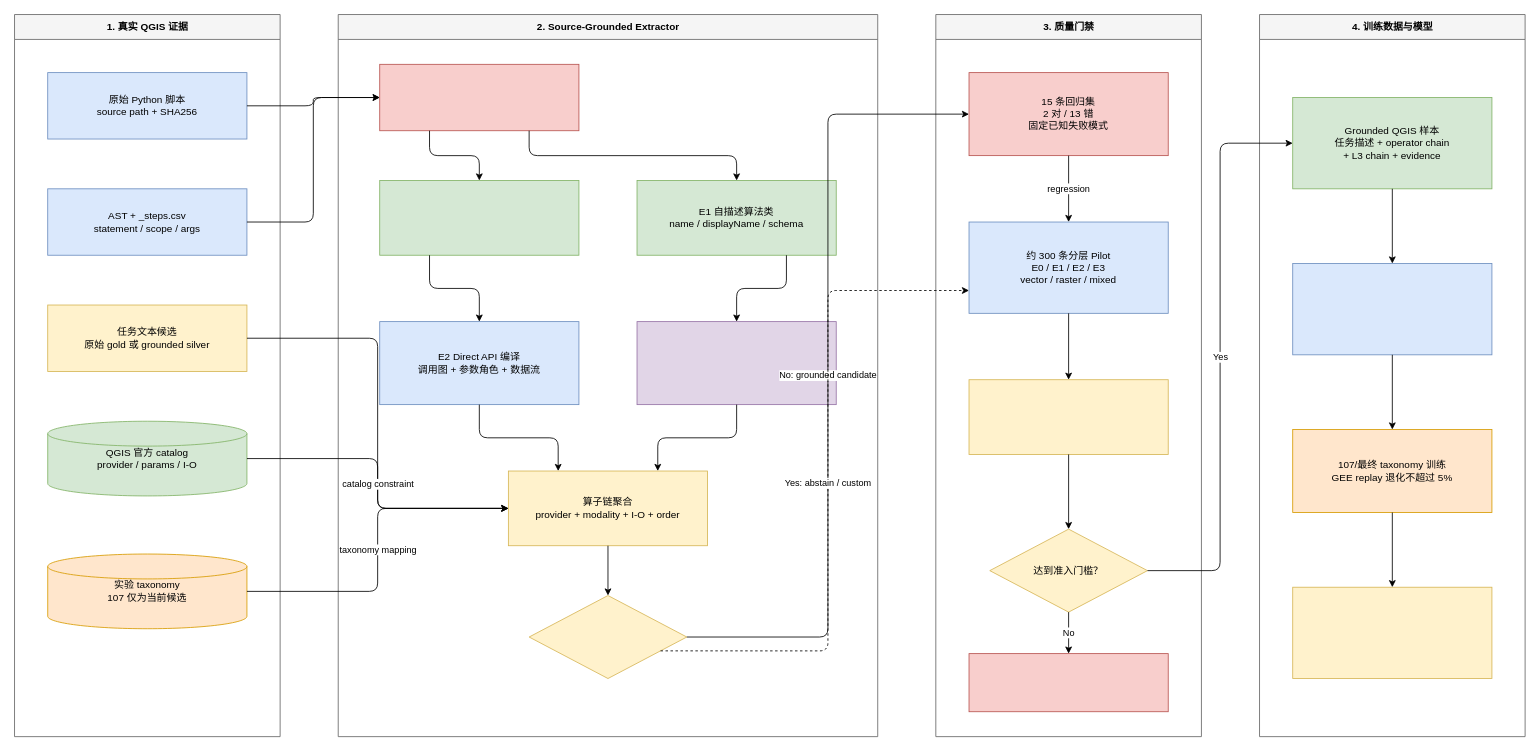
This 1540x751 diagram has some shape labels left out. Here are the shapes that lost their labels. From the top down, the centre of each, then its label:
pixel 479 97: Provenance Gate 路径、hash、碰撞、去重
pixel 479 217: E0 显式 ID processing.run("qgis:...")
pixel 1392 309: Train-only Package 按源脚本分组防泄漏 source-aware weight
pixel 736 363: E3 Custom / Unbounded 保留类身份，不强塞 catalog
pixel 1068 416: 人工 Precision / Recall 按证据层分别报告
pixel 607 637: 证据不足？
pixel 1392 632: Held-out Vector 评估 family recall + 人工 A/B/C GEE contamination
pixel 1068 682: Fail Closed 修规则 / 保持 abstain
